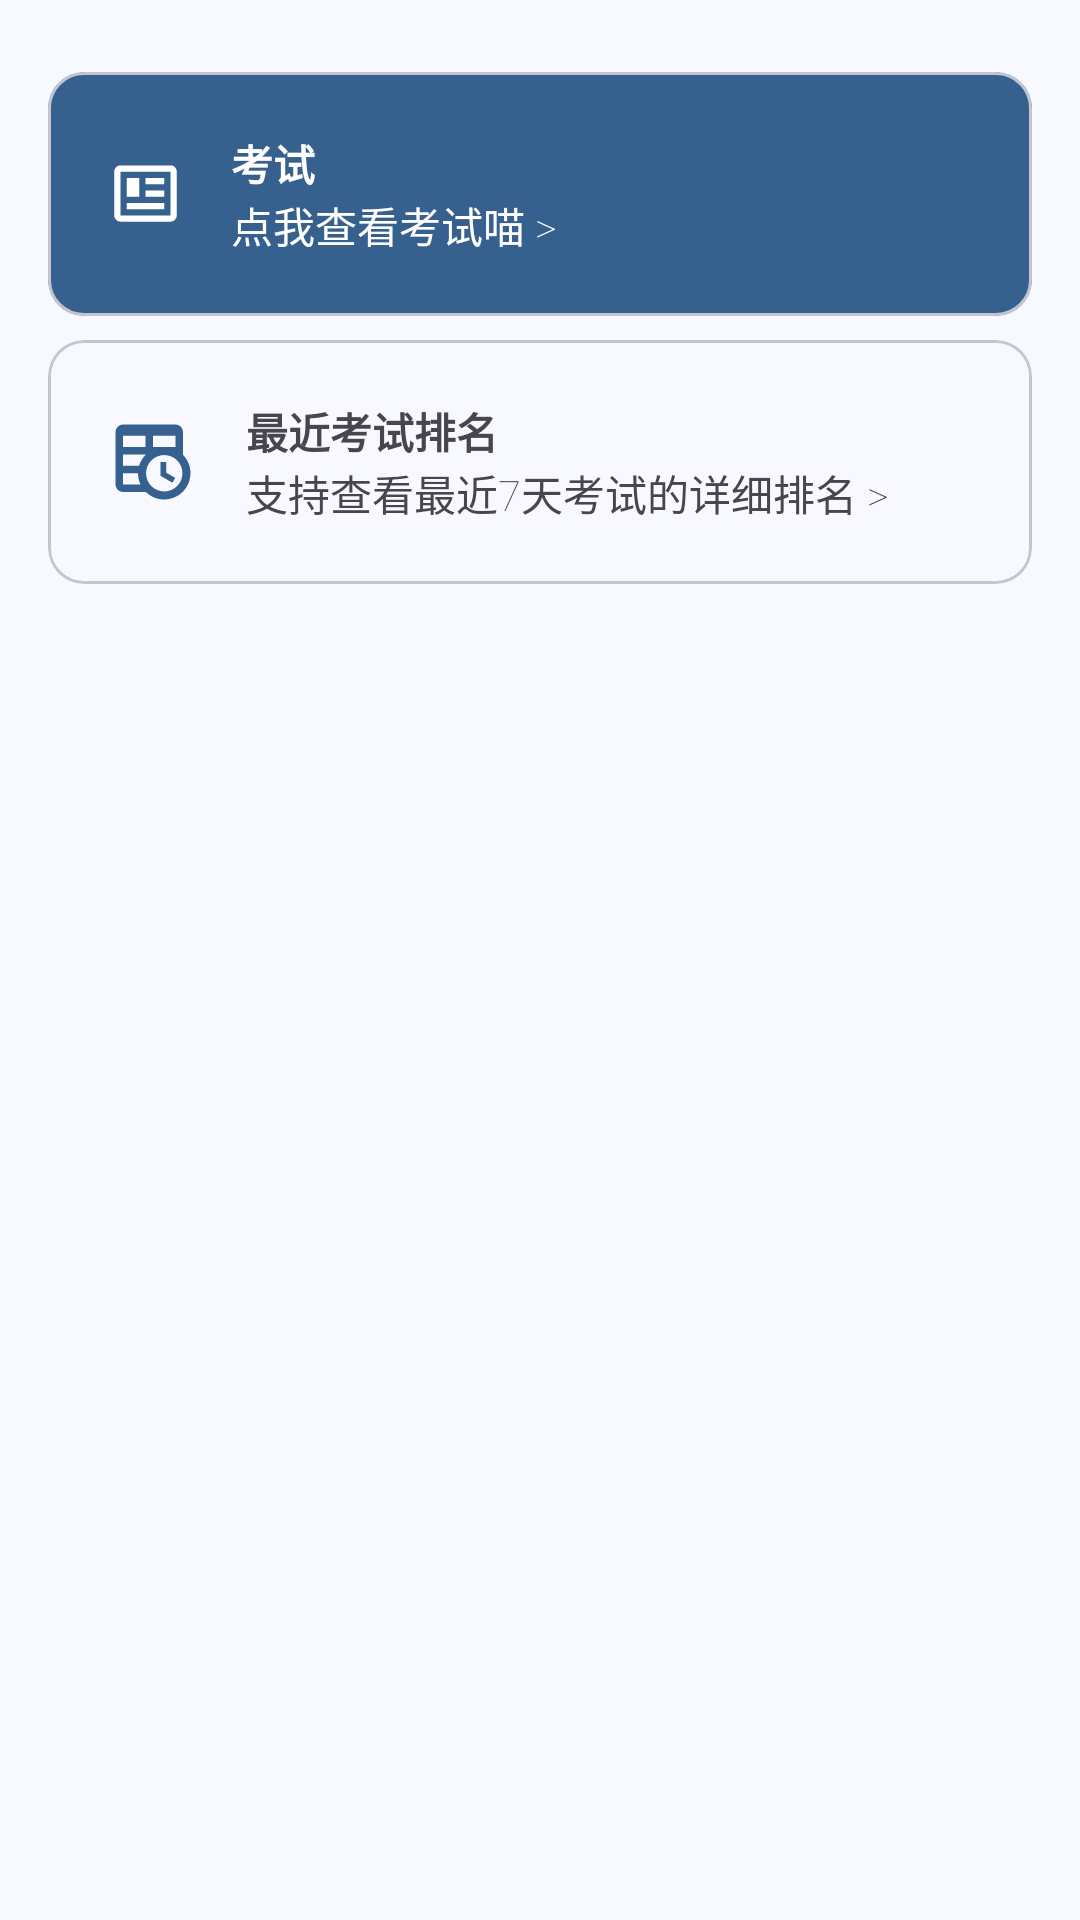

Where icons sit on this 1080x1920 app screen, as (x1, y1, x2, y2):
exam: (114, 165, 177, 222)
lasttime: (115, 424, 191, 500)
